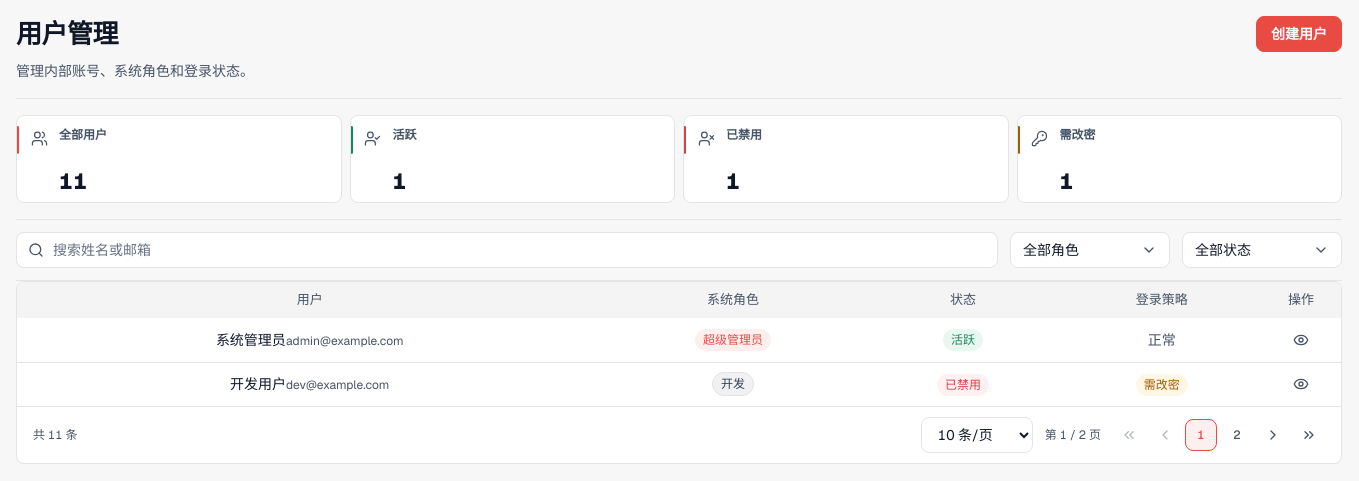
Test: UserManagement › replaces rows with the requested user page in the screen data flow
The width and height of the screenshot is (1359, 481).
Expected: the text "dev@example.com" is shown, [286,376,389,394]
Expected: the text "reviewer@example.com" is not shown
Click the button named "下一页" at (1273, 435), box [1257,419,1289,451]
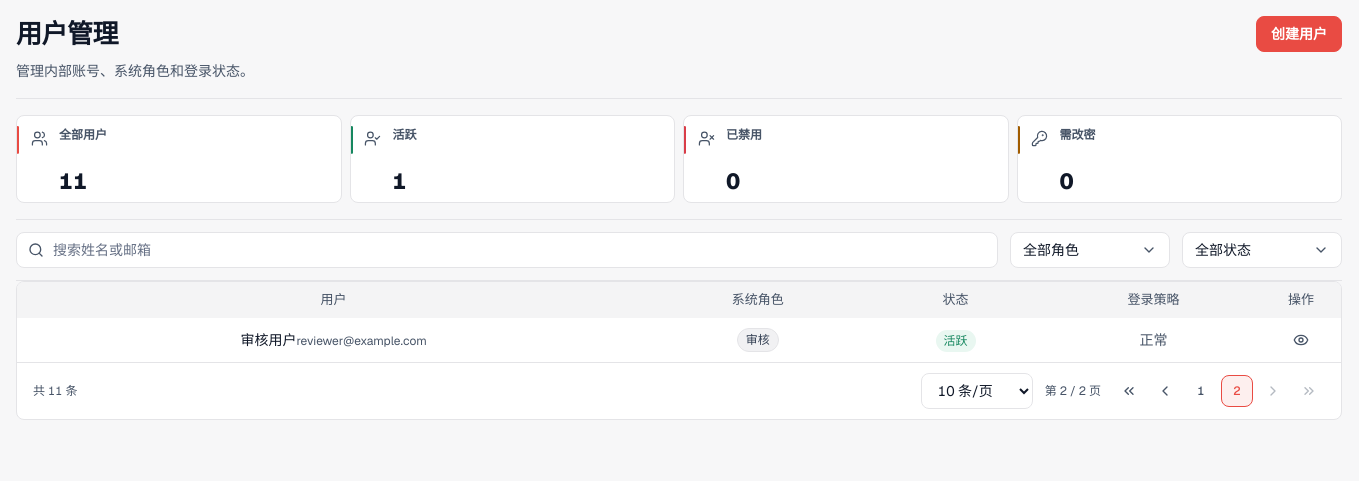
Now the text "reviewer@example.com" is shown, box [296,332,427,350]
Now the text "dev@example.com" is gone
